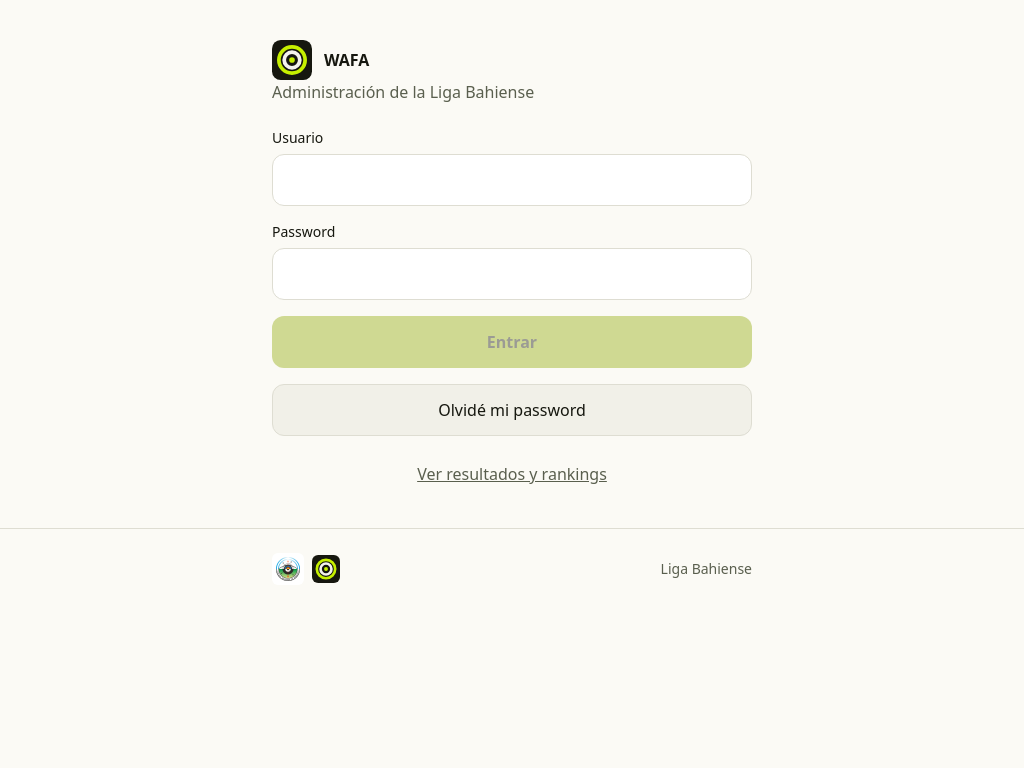
Test: sesión de admin › muestra el motivo del rechazo tal cual lo manda el servidor
In the field labelled "Usuario": (512, 180) [272, 154, 752, 206], type "admin"
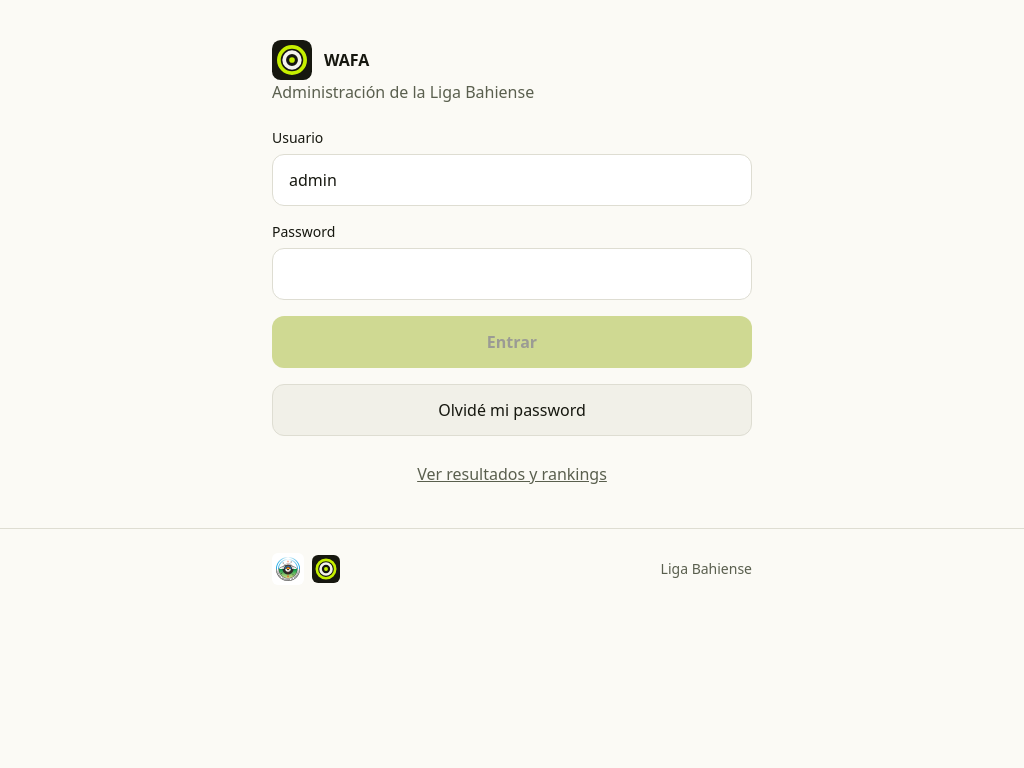
In the password field labelled "Password": (512, 274) [272, 248, 752, 300], type "x"
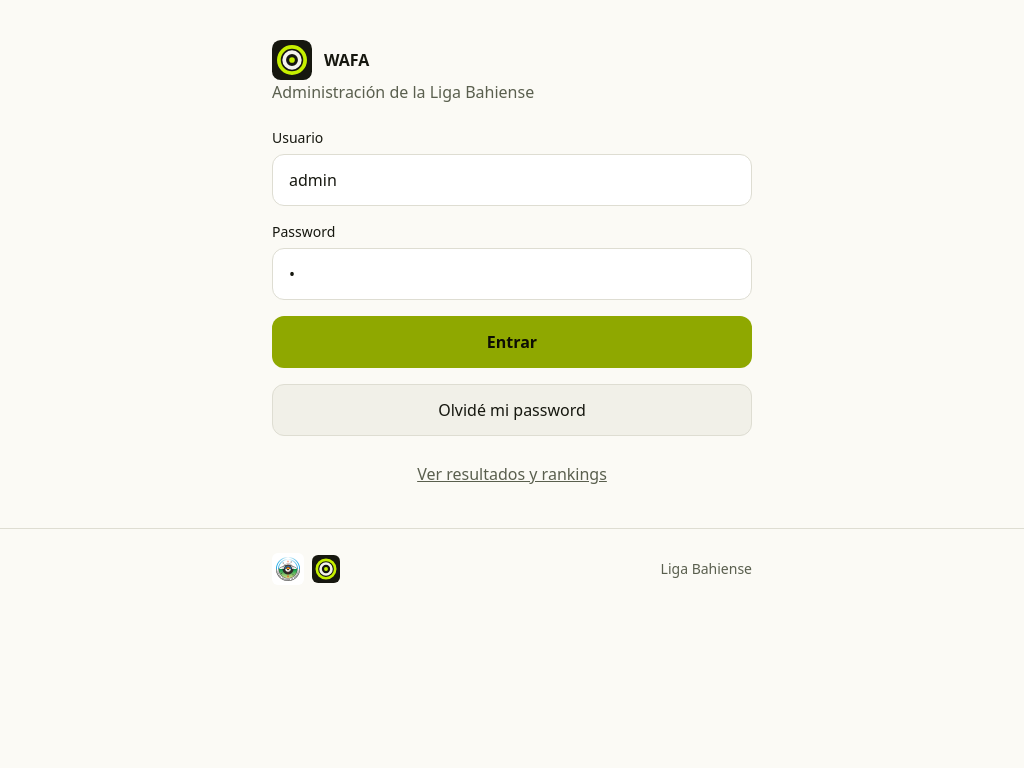
Click the button "Entrar": (512, 342) [272, 316, 752, 368]
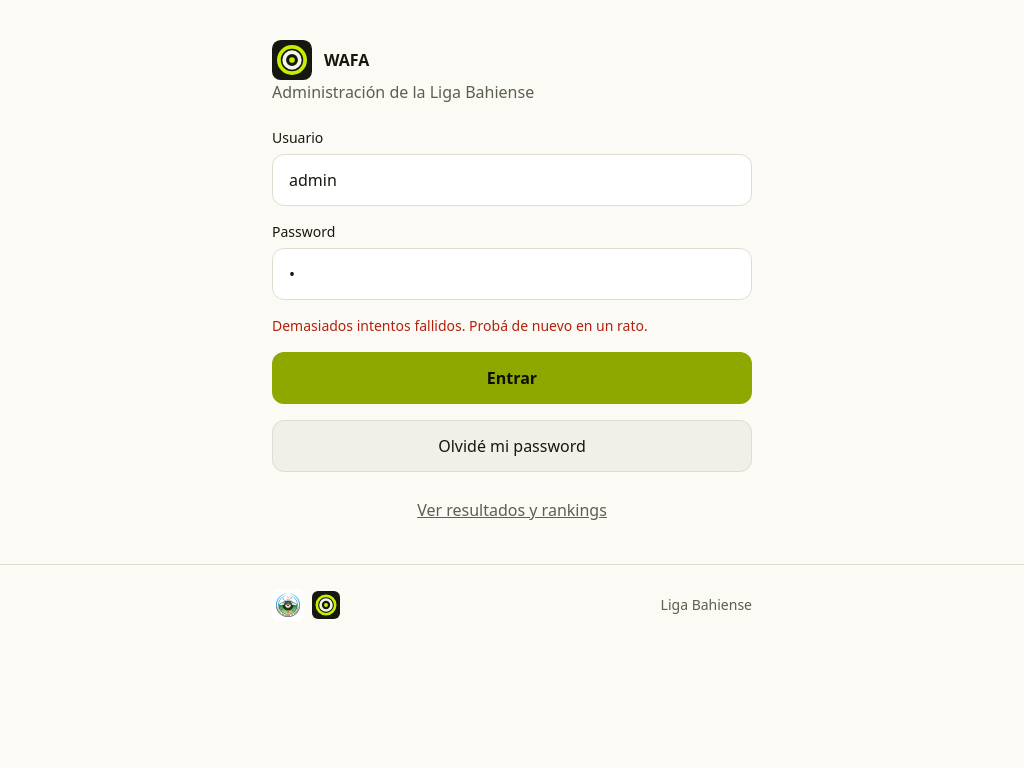
Now the message shows "Demasiados intentos", box [272, 316, 648, 335]
